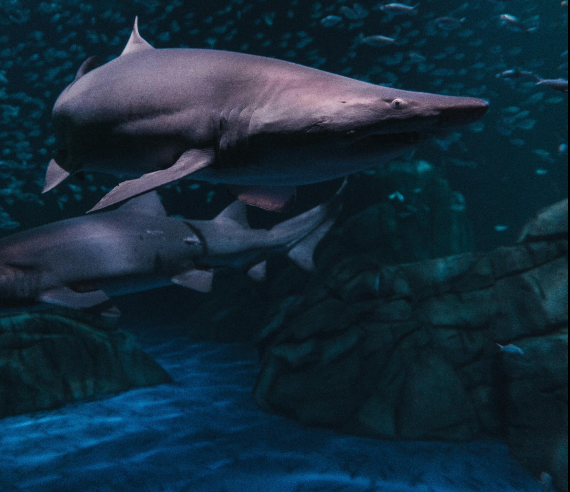shark: (42, 16, 491, 210), (1, 174, 351, 312)
